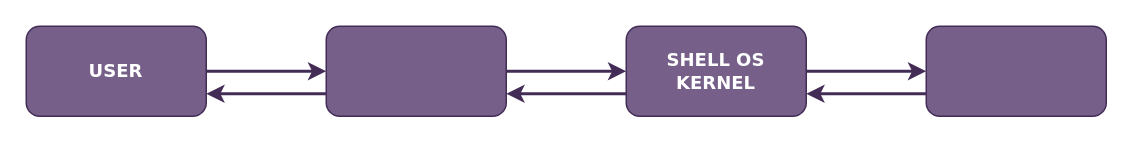
Image size: 1133x143. Some labels were removed from this diagram. Here are the shapes that lost their labels. From the top down, the centre of each, then its label:
At [415,70]: "TERMINAL".
At [1015,70]: "HARDWARE".
